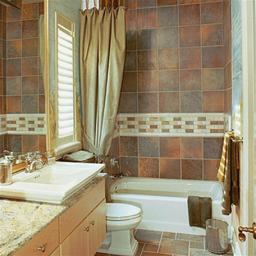Lavamanos: (2, 149, 111, 206)
Sanitario: (110, 201, 145, 251)
